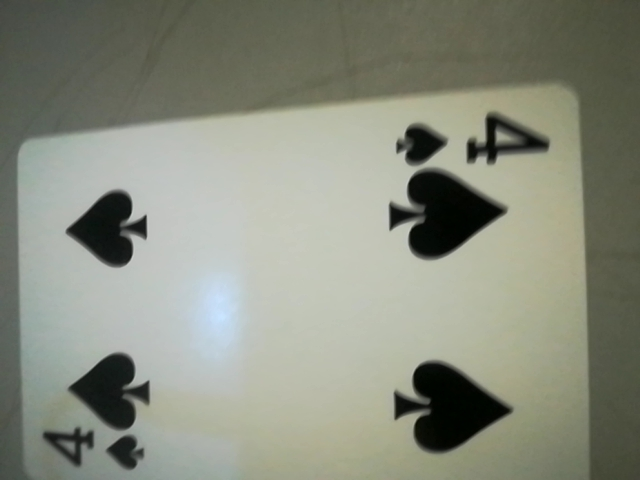ht 4: (382, 104, 559, 178)
